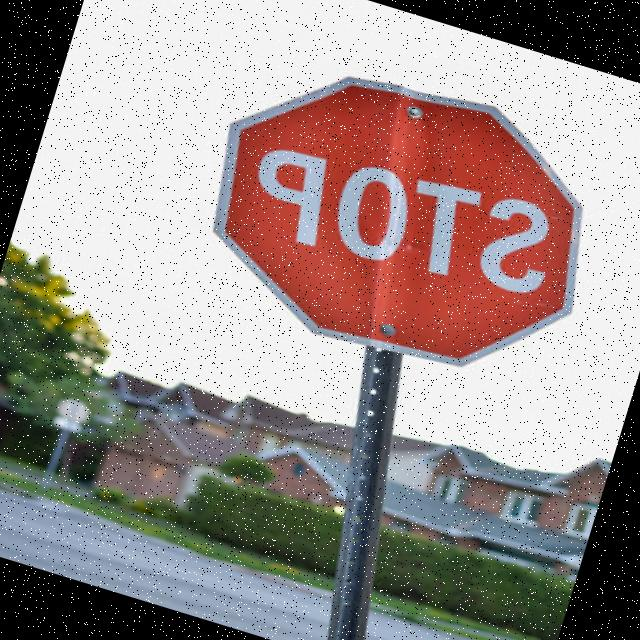stop: (155, 17, 632, 420)
